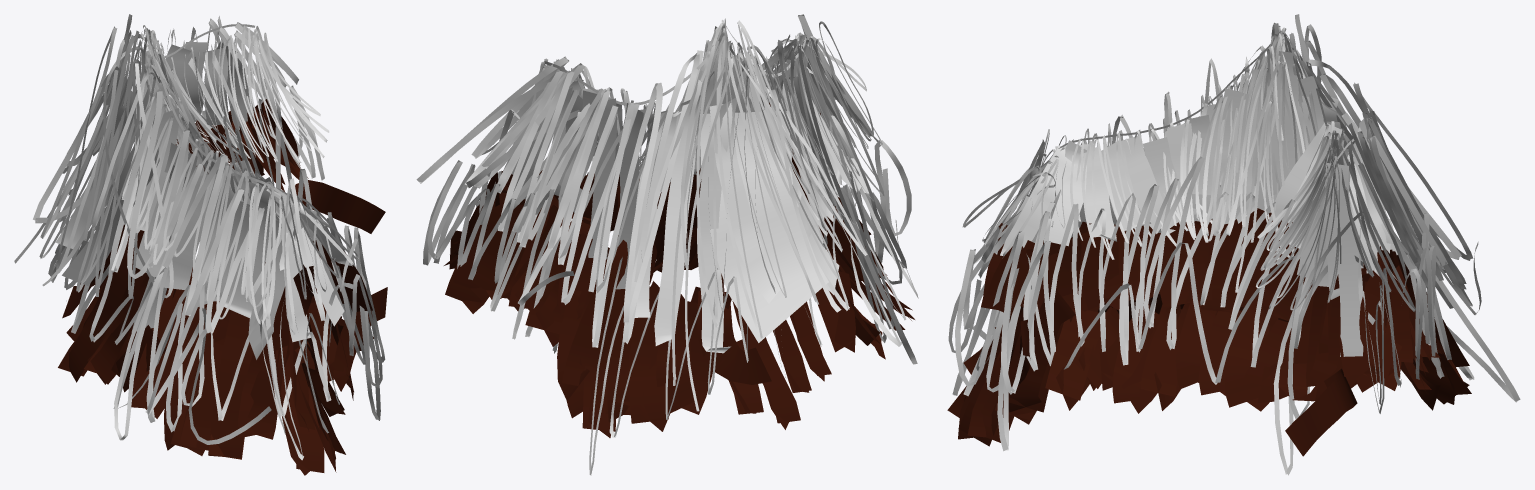
File: mt everest.fbx
3 views of the same model, side by side, from view 1: azimuth 30°, elevation 25°; view 2: azimuth 150°, elevation 25°; view 3: azimuth 270°, elevation 25° (orthographic). The views are drawn at different scales.
Parts seen in each view (by area): view 1: Untitled_Flat_geo (×2); view 2: Untitled_Flat_geo (×2); view 3: Untitled_Flat_geo (×2).
Part boxes in pixels (x1,y1,x2,y2): Untitled_Flat_geo (×2): (14,14,387,475); Untitled_Flat_geo (×2): (416,14,918,475); Untitled_Flat_geo (×2): (947,14,1520,475).
Size of the model in its own units: 1.72 by 1.71 by 2.23.
